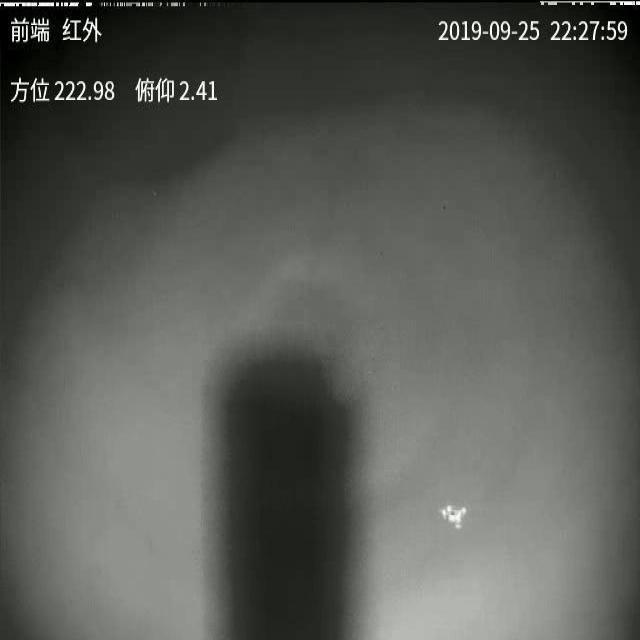drone: (438, 506, 470, 533)
